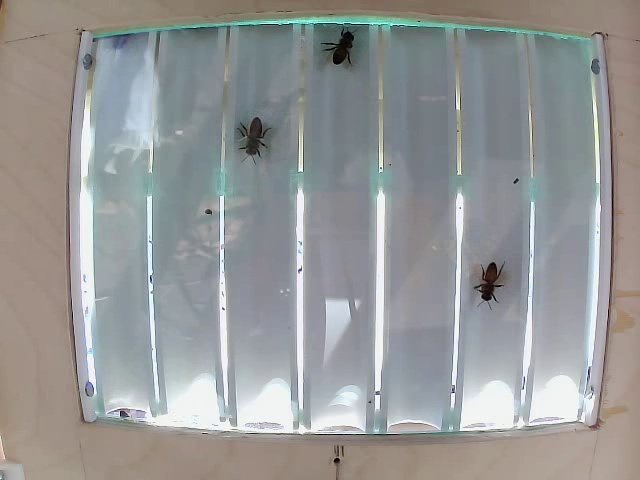bee: (234, 111, 284, 172), (325, 22, 373, 85), (470, 253, 514, 311)
